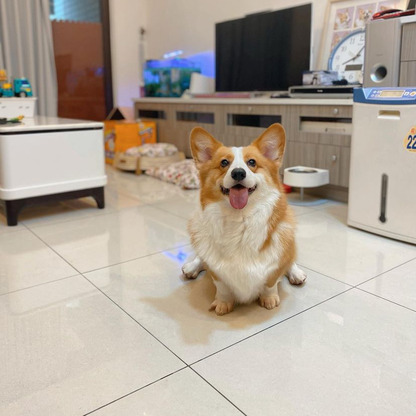Corgi: (167, 121, 316, 332)
